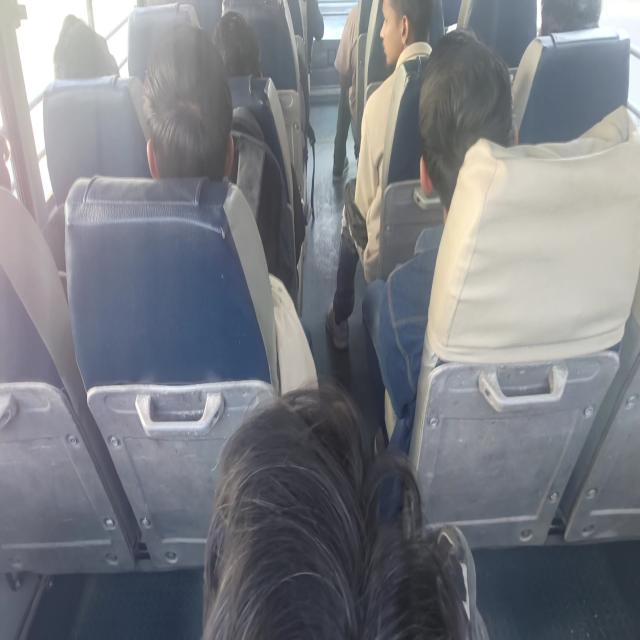person: (206, 388, 474, 640), (419, 37, 519, 218), (146, 33, 233, 180), (52, 14, 122, 93), (210, 12, 266, 84), (526, 0, 610, 47), (374, 0, 428, 58)
